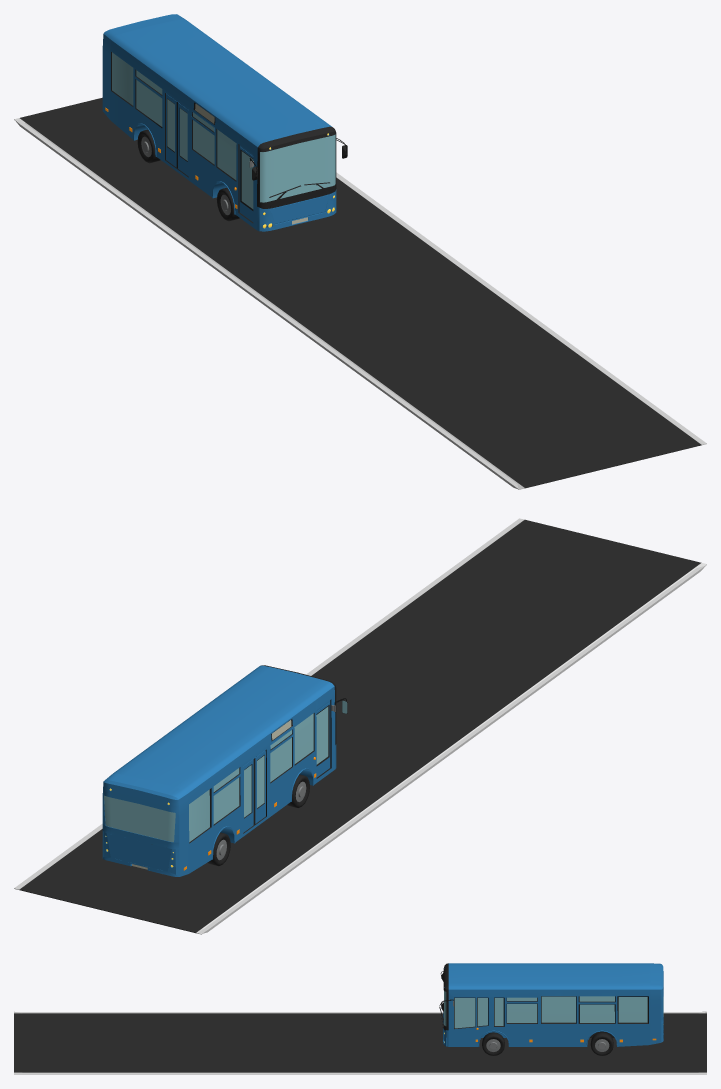
Rendered from bus.gltf.
The picture shows the model from 3 angles, top to bottom: view 1: azimuth 30°, elevation 25°; view 2: azimuth 150°, elevation 25°; view 3: azimuth 270°, elevation 25°; orthographic projection. The views are drawn at different scales.
Parts seen in each view (by area): view 1: Cube.013; view 2: Cube.013; view 3: Cube.013.
Boxes of the visible parts, left/top/right/bottom form: Cube.013: left=14, top=14, right=706, bottom=489; Cube.013: left=14, top=518, right=706, bottom=934; Cube.013: left=14, top=963, right=706, bottom=1074.
Bounding box in the file's own units: 4.79 × 2.52 × 22.35.
9 materials, 9 textured.
